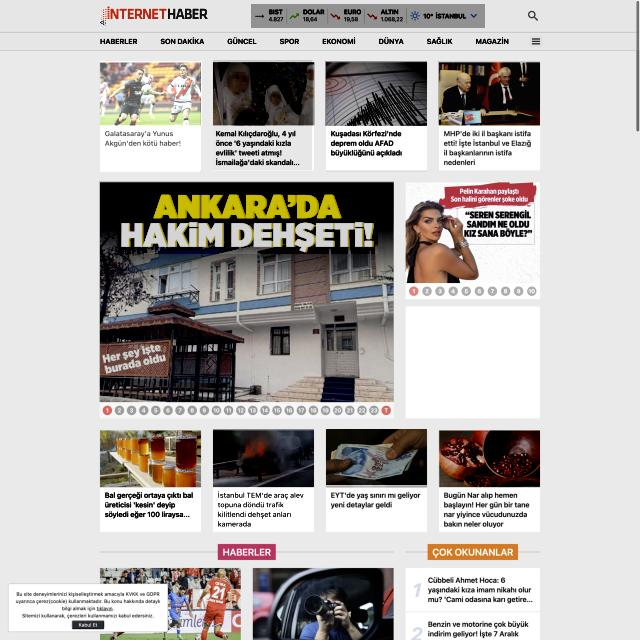Input field: (217, 490, 306, 530), (102, 489, 198, 524)
QR code: (251, 4, 485, 28)
Spinner: (439, 61, 541, 170), (326, 62, 427, 172), (100, 61, 200, 172), (214, 60, 314, 170)
bag: (0, 0, 636, 51)
copy: (99, 181, 394, 402), (100, 61, 202, 126), (325, 61, 427, 126), (438, 61, 540, 125), (214, 62, 315, 125), (100, 430, 201, 488), (213, 429, 314, 487), (326, 430, 427, 488), (440, 431, 540, 487)
date picker: (95, 3, 215, 30)
decoration: (98, 36, 512, 46), (529, 36, 543, 47)
dropdown: (99, 402, 394, 419), (407, 283, 540, 299)
image: (118, 190, 378, 254)
